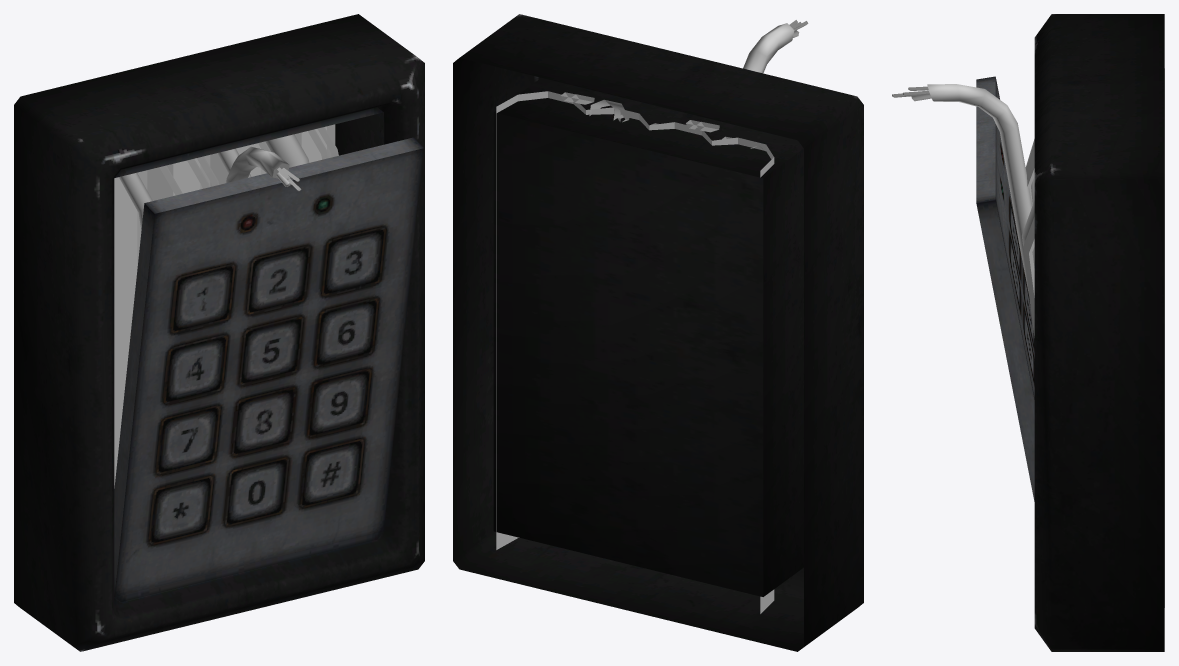
File: security_keypad_broken.dae
The picture shows the model from 3 angles, left to right: view 1: azimuth 30°, elevation 25°; view 2: azimuth 150°, elevation 25°; view 3: azimuth 270°, elevation 25°; orthographic projection. The views are drawn at different scales.
Visible parts, largest first — view 1: polySurface4, polySurface1, polySurface836; view 2: polySurface4, polySurface836; view 3: polySurface4, polySurface1, polySurface836.
Part boxes in pixels (x1,y1,x2,y2): polySurface4: (14, 14, 424, 651); polySurface1: (114, 137, 423, 596); polySurface836: (114, 124, 338, 488); polySurface4: (453, 14, 863, 651); polySurface836: (496, 23, 794, 613); polySurface4: (1034, 14, 1164, 651); polySurface1: (976, 76, 1034, 501); polySurface836: (927, 68, 1164, 607).
Size of the model in its own units: 0.1824 by 0.254 by 0.1302.
